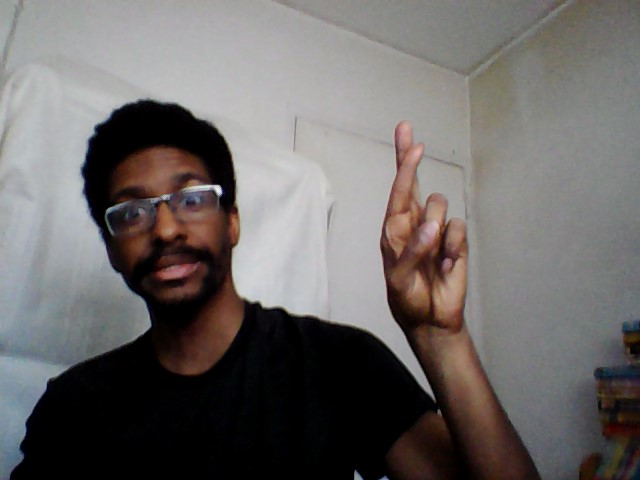r: (377, 117, 474, 337)
